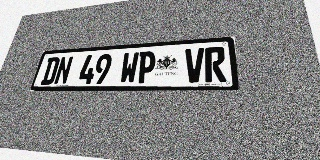4: (77, 54, 98, 84)
9: (92, 54, 113, 84)
D: (40, 57, 61, 85)
N: (53, 56, 74, 85)
P: (136, 51, 156, 83)
R: (205, 46, 227, 82)
V: (184, 48, 204, 83)
W: (119, 52, 139, 84)
